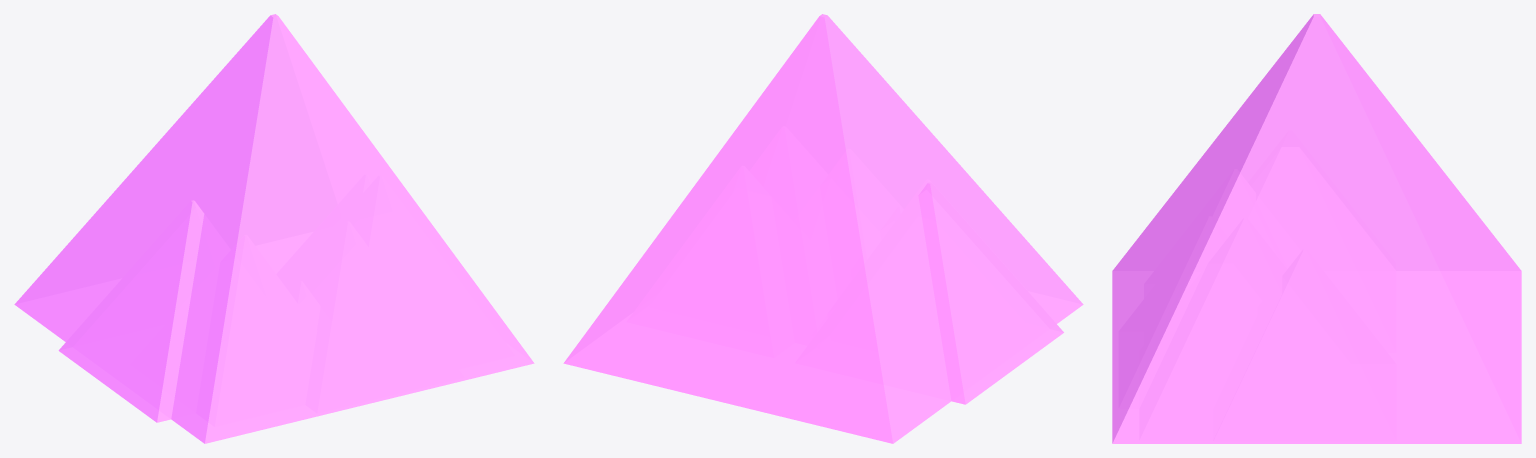
Rendered from SconceFlames(Optional).fbx.
The picture shows the model from 3 angles, left to right: view 1: azimuth 30°, elevation 25°; view 2: azimuth 150°, elevation 25°; view 3: azimuth 270°, elevation 25°; orthographic projection. The views are drawn at different scales.
Parts seen in each view (by area): view 1: pCube85; view 2: pCube85; view 3: pCube85.
Part boxes in pixels (x1,y1,x2,y2): pCube85: (14,14,534,443); pCube85: (563,14,1083,443); pCube85: (1112,14,1521,443).
Size of the model in its own units: 4.37 by 3.87 by 4.19.
